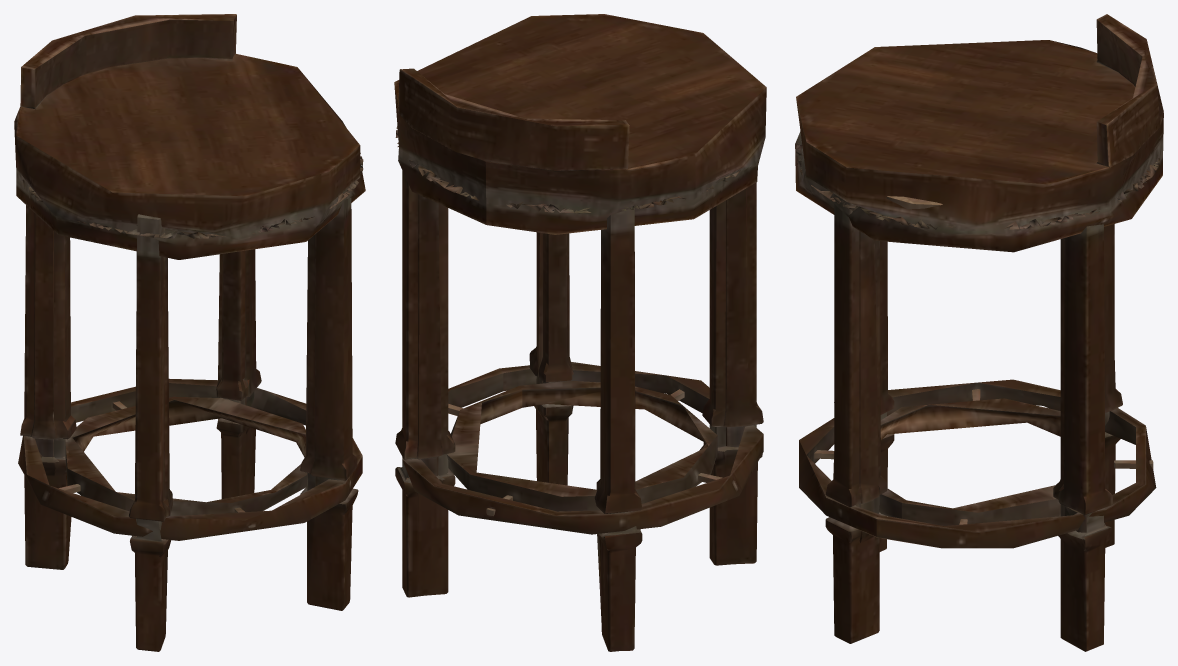
File: stool.glb
The picture shows the model from 3 angles, left to right: view 1: azimuth 30°, elevation 25°; view 2: azimuth 150°, elevation 25°; view 3: azimuth 270°, elevation 25°; orthographic projection. The views are drawn at different scales.
Parts seen in each view (by area): view 1: bar_chair_round_01; view 2: bar_chair_round_01; view 3: bar_chair_round_01.
Boxes of the visible parts, x1=… form: bar_chair_round_01: x1=14, y1=14, x2=365, y2=651; bar_chair_round_01: x1=394, y1=14, x2=766, y2=651; bar_chair_round_01: x1=795, y1=14, x2=1163, y2=651.
Bounding box in the file's own units: 0.4807 × 0.7505 × 0.4785.
Materials: 1 (1 with a texture image).
